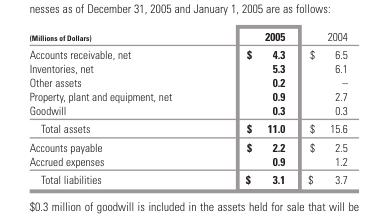table: (28, 28, 346, 185)
table column: (28, 28, 207, 185), (207, 28, 295, 185), (295, 28, 346, 185)
table column header: (28, 28, 346, 45)
table row: (28, 119, 346, 137), (28, 28, 346, 45), (28, 102, 346, 119), (28, 45, 346, 61), (28, 137, 346, 153), (28, 153, 346, 169), (28, 169, 346, 185), (28, 61, 346, 75), (28, 88, 346, 102), (28, 75, 346, 88)
